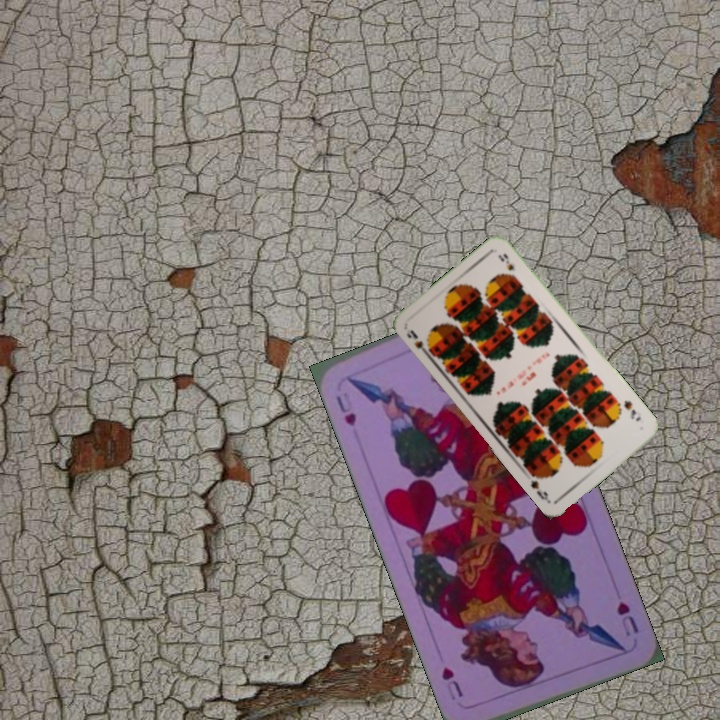HU: (612, 597, 642, 639), (332, 388, 359, 429)
S9: (402, 326, 435, 359), (620, 396, 643, 424)
